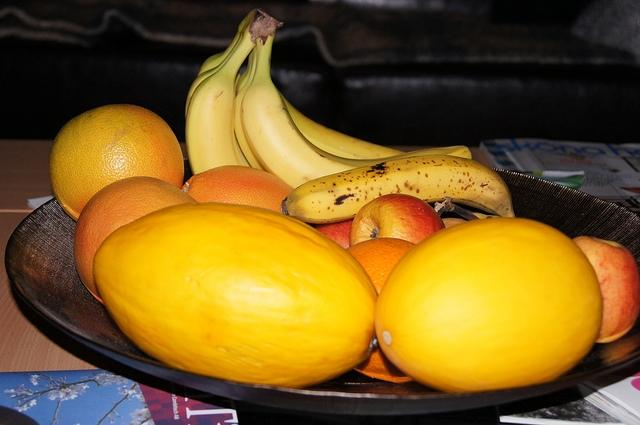apple: (573, 236, 639, 342), (348, 194, 444, 247), (304, 218, 354, 250)
banana: (241, 31, 472, 190), (235, 49, 408, 159), (282, 154, 516, 224), (184, 17, 256, 176), (186, 25, 247, 120), (197, 9, 257, 77), (234, 44, 264, 170)
orange: (48, 102, 186, 222), (73, 176, 199, 306), (346, 237, 416, 384), (182, 165, 294, 213)
